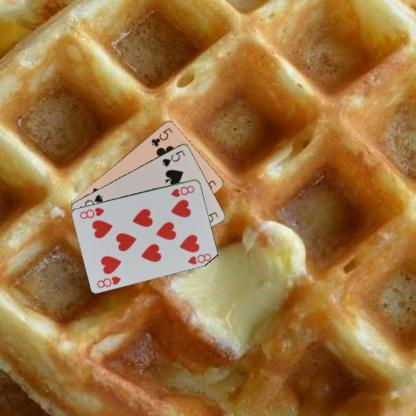5c: (148, 125, 174, 148)
5s: (160, 147, 186, 168)
8h: (94, 273, 123, 289), (168, 183, 195, 198)
